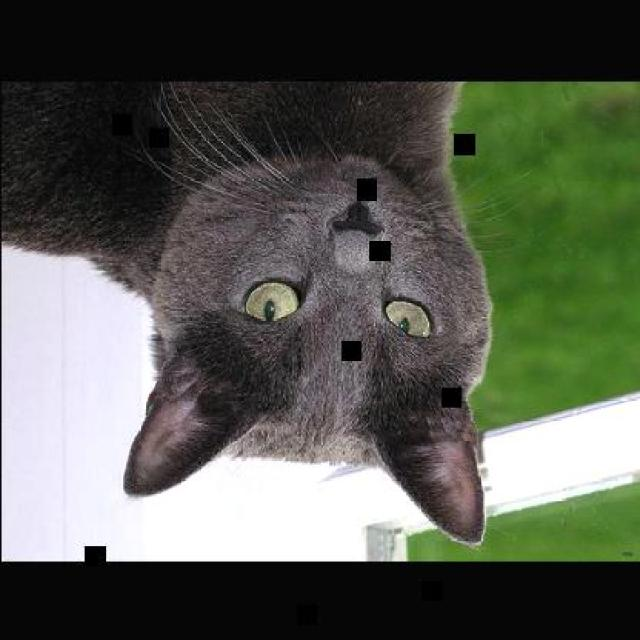unauthorized: (0, 77, 511, 548)
